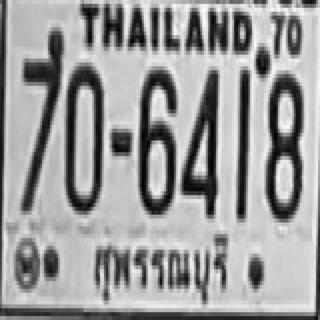N00: (64, 59, 102, 211)
N01: (234, 66, 248, 219)
N04: (180, 66, 218, 215)
N06: (138, 62, 176, 211)
N07: (18, 23, 62, 211)
N08: (264, 70, 302, 219)
P66: (91, 225, 234, 307)
